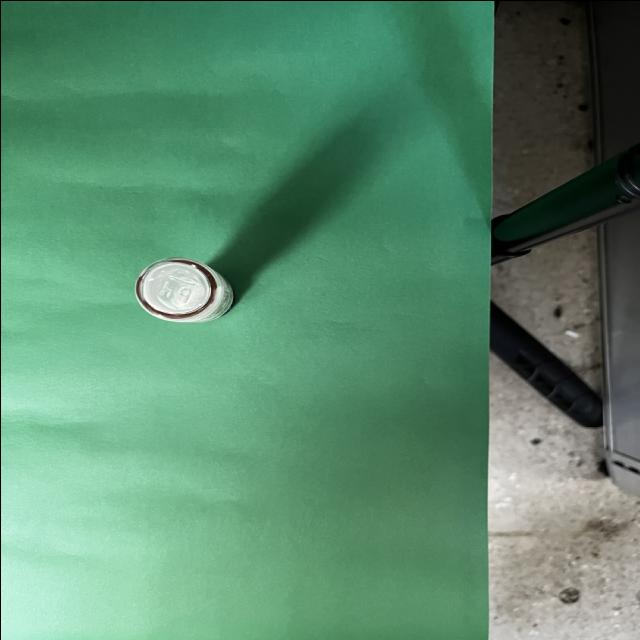Vials: (132, 254, 235, 322)
